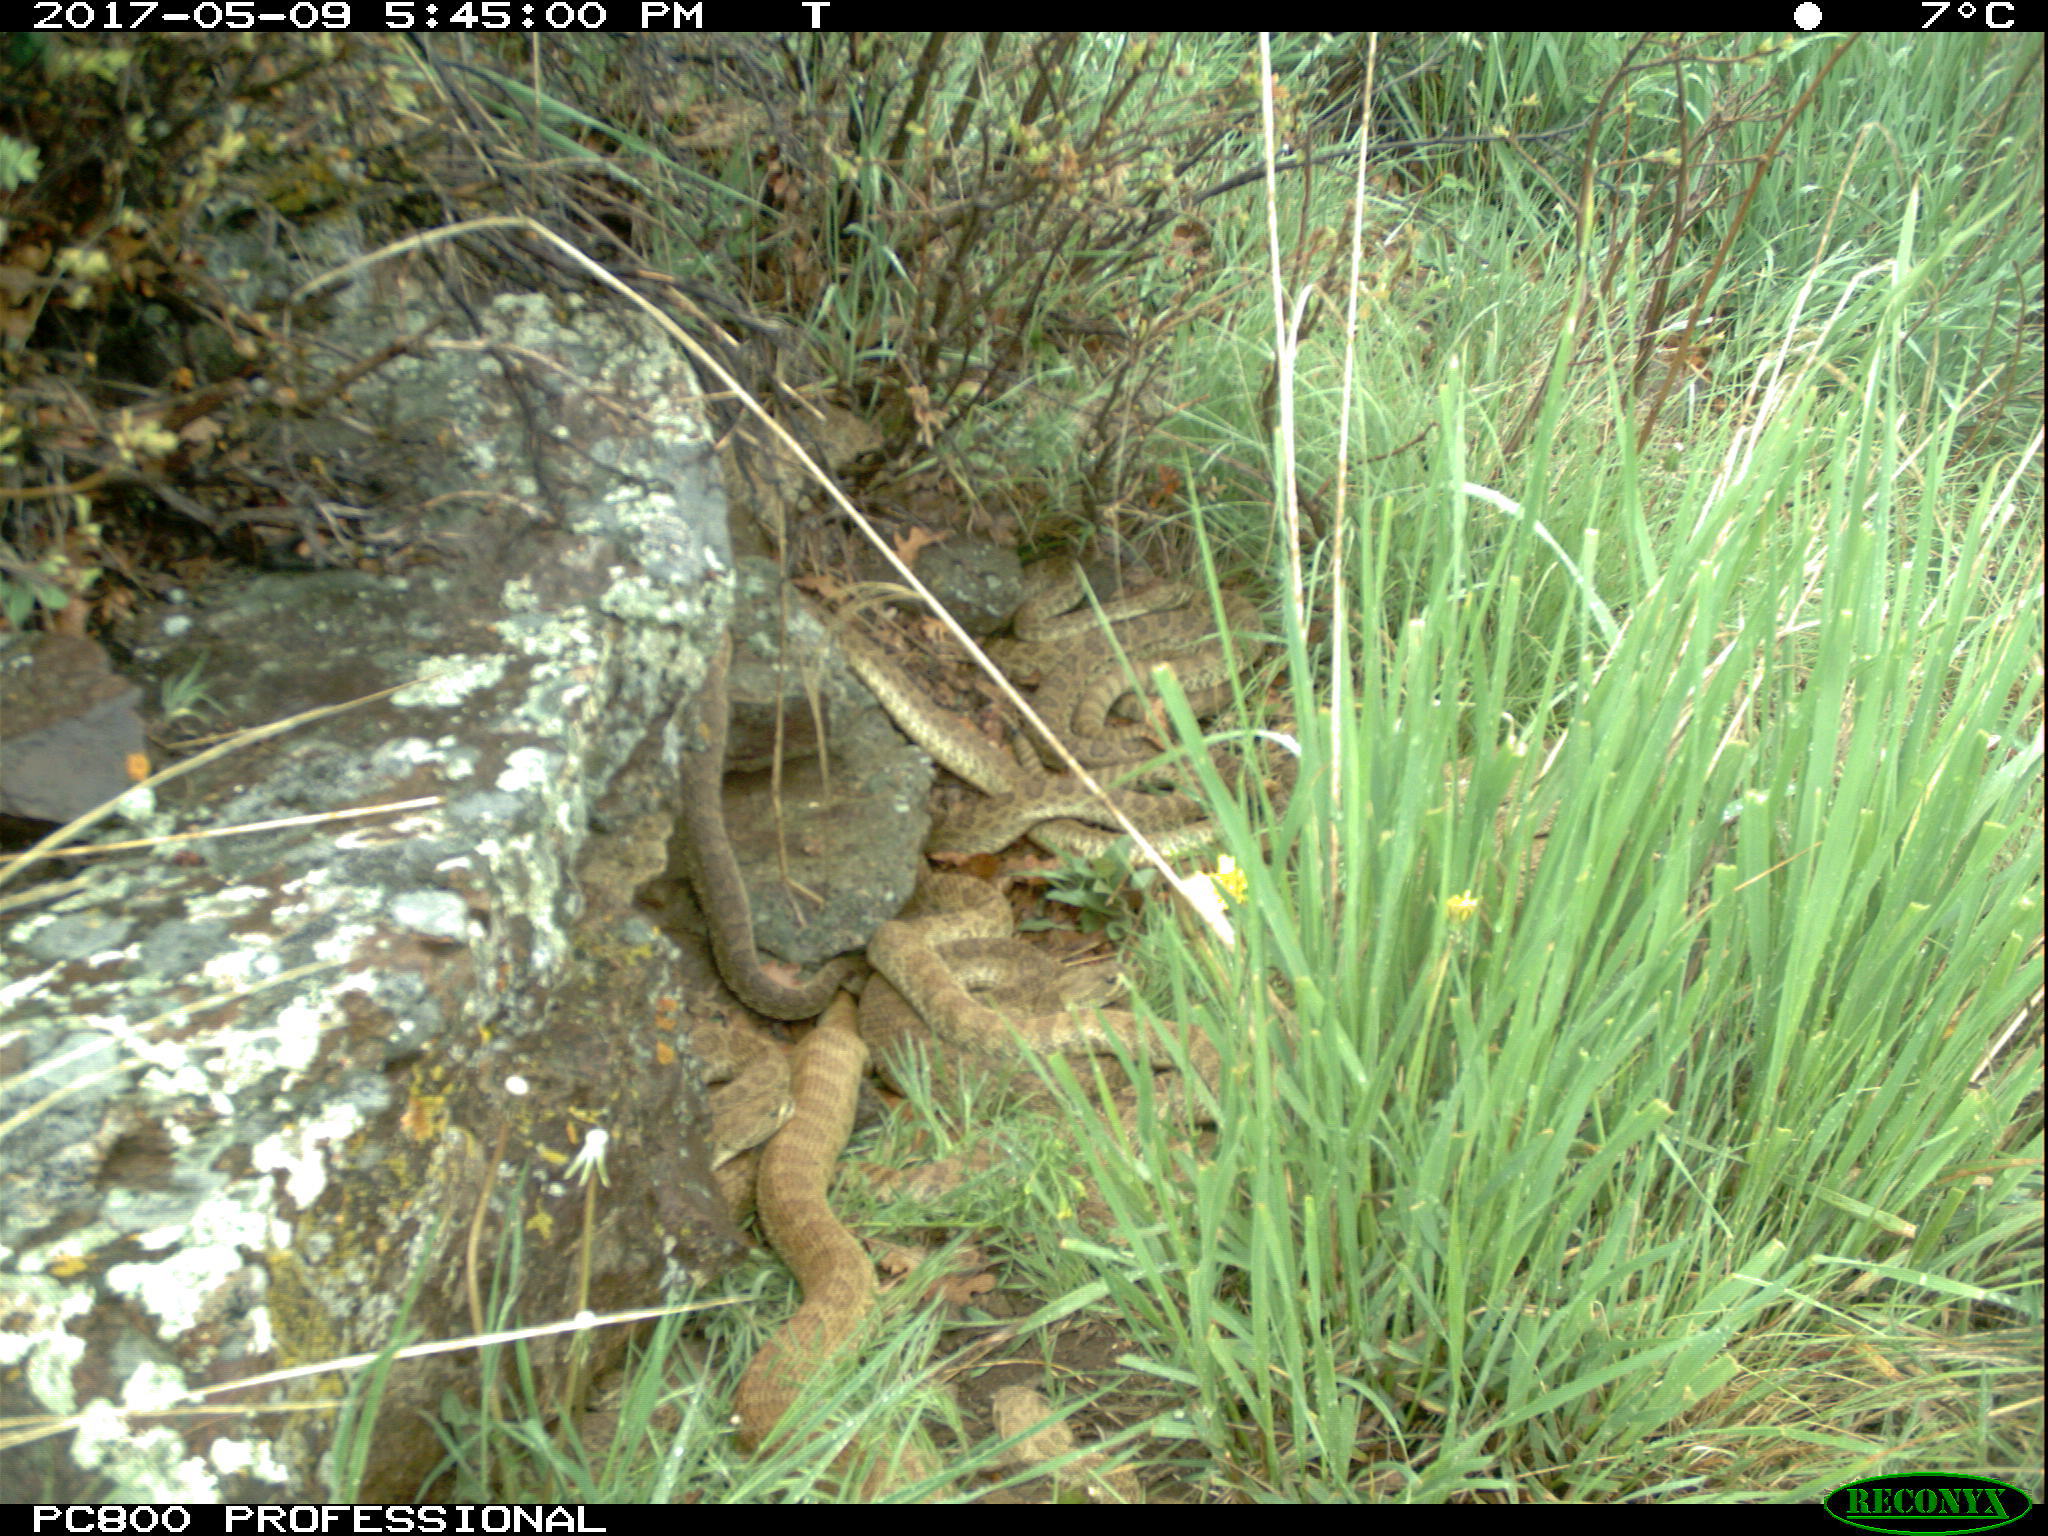snake: (681, 1013, 885, 1455), (876, 866, 1214, 1125), (874, 658, 1285, 863), (668, 632, 874, 1020), (1022, 565, 1277, 689)
